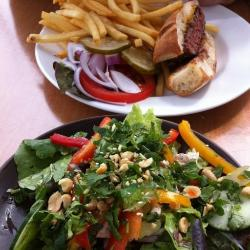burger: (155, 4, 224, 103)
fries: (37, 1, 161, 60)
salad: (17, 122, 249, 250)
